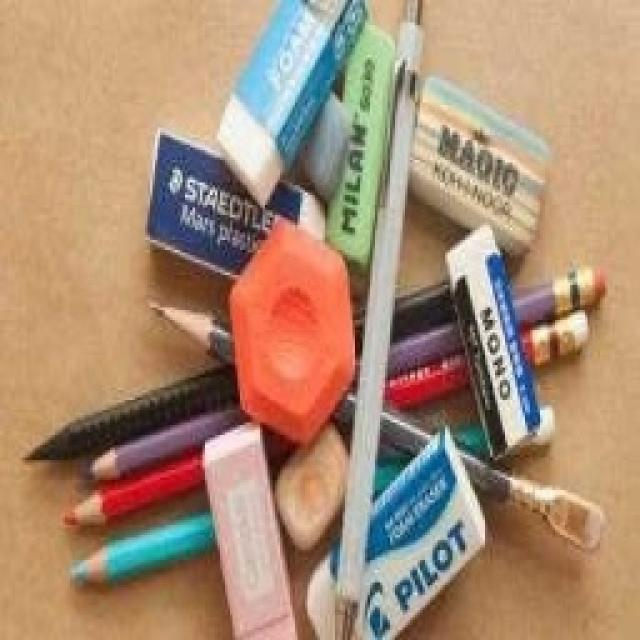Silgi: (444, 220, 564, 464)
